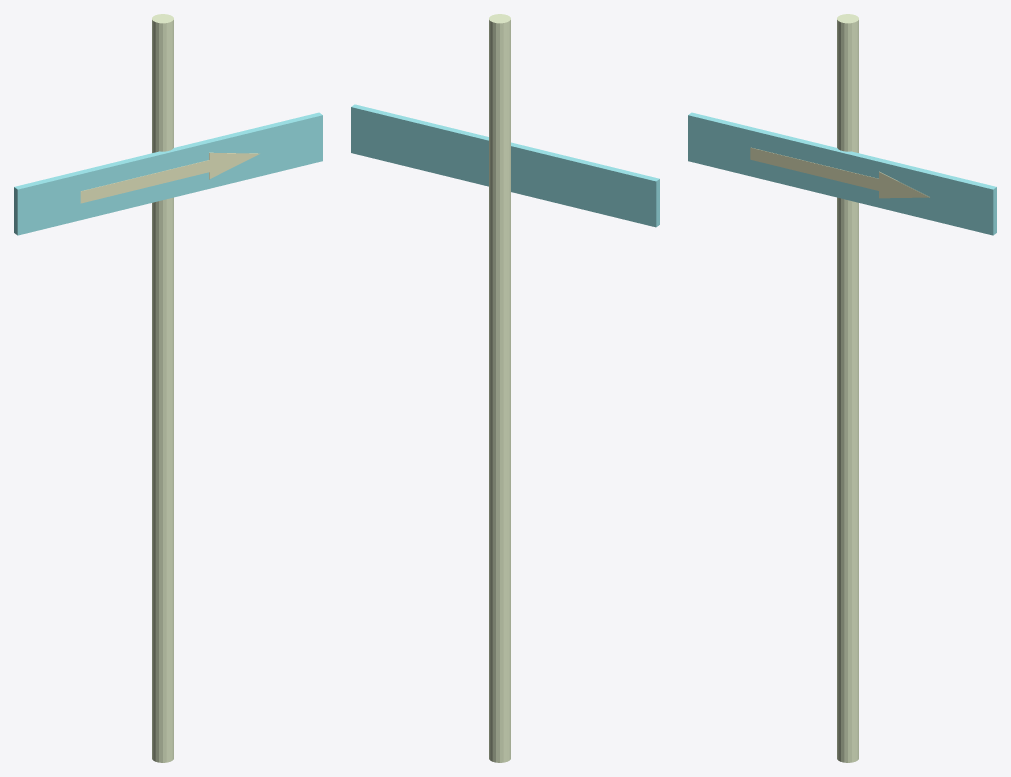
The model's file is sign_one_way.glb.
The picture shows the model from 3 angles, left to right: view 1: azimuth 30°, elevation 25°; view 2: azimuth 150°, elevation 25°; view 3: azimuth 330°, elevation 25°; orthographic projection.
Visible parts, largest first — view 1: pole, plate_base_00, layer_1_00, layer_1_01; view 2: pole, plate_base_00; view 3: pole, plate_base_00, layer_1_00, layer_1_01.
Part boxes in pixels (<box>): pole: <box>152,14,173,762</box>; plate_base_00: <box>14,112,322,235</box>; layer_1_00: <box>80,160,209,203</box>; layer_1_01: <box>209,152,259,179</box>; pole: <box>489,14,510,762</box>; plate_base_00: <box>351,104,659,227</box>; pole: <box>837,14,858,762</box>; plate_base_00: <box>688,112,996,235</box>; layer_1_00: <box>750,147,878,190</box>; layer_1_01: <box>879,171,929,198</box>.
Bounding box in the file's own units: 0.95 × 2.2 × 0.071.
